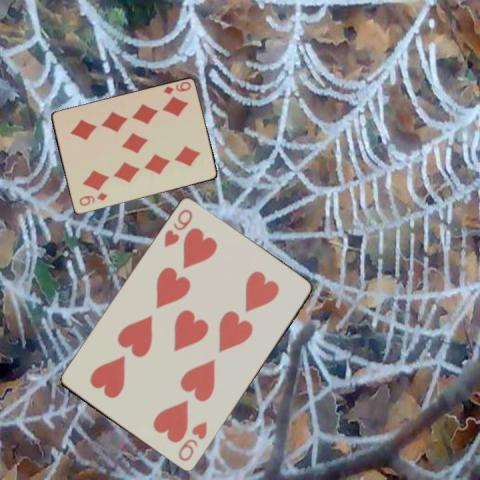9d: (76, 190, 109, 207), (160, 79, 192, 96)
9h: (175, 419, 208, 463), (161, 206, 194, 249)
